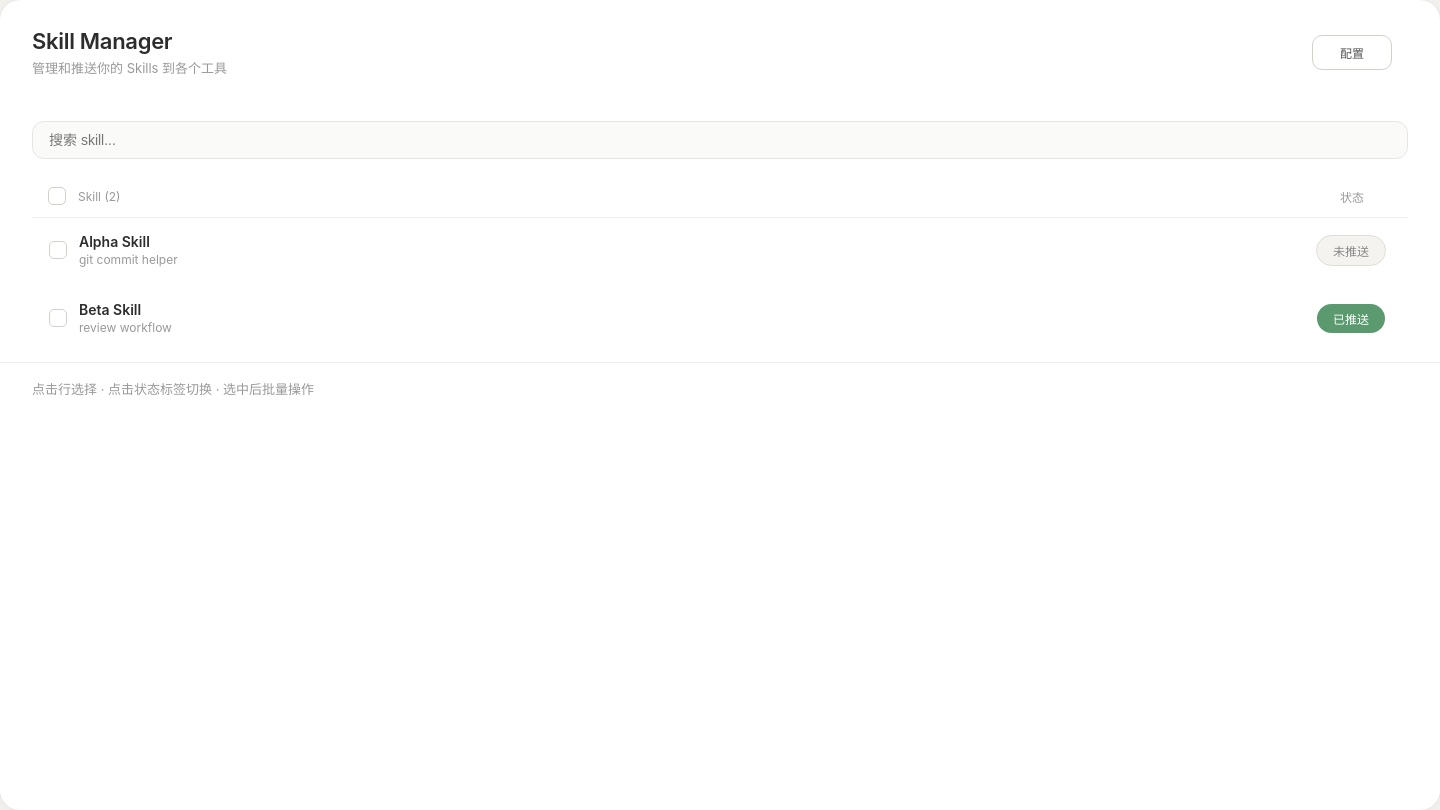
Scenario: ManagePage V0.4 Interaction (Integration) › IT-MANAGE-02: 全选应联动批量栏显示与选中数量
Click the element titled "全选/取消全选": (57,196) [48,187,66,205]
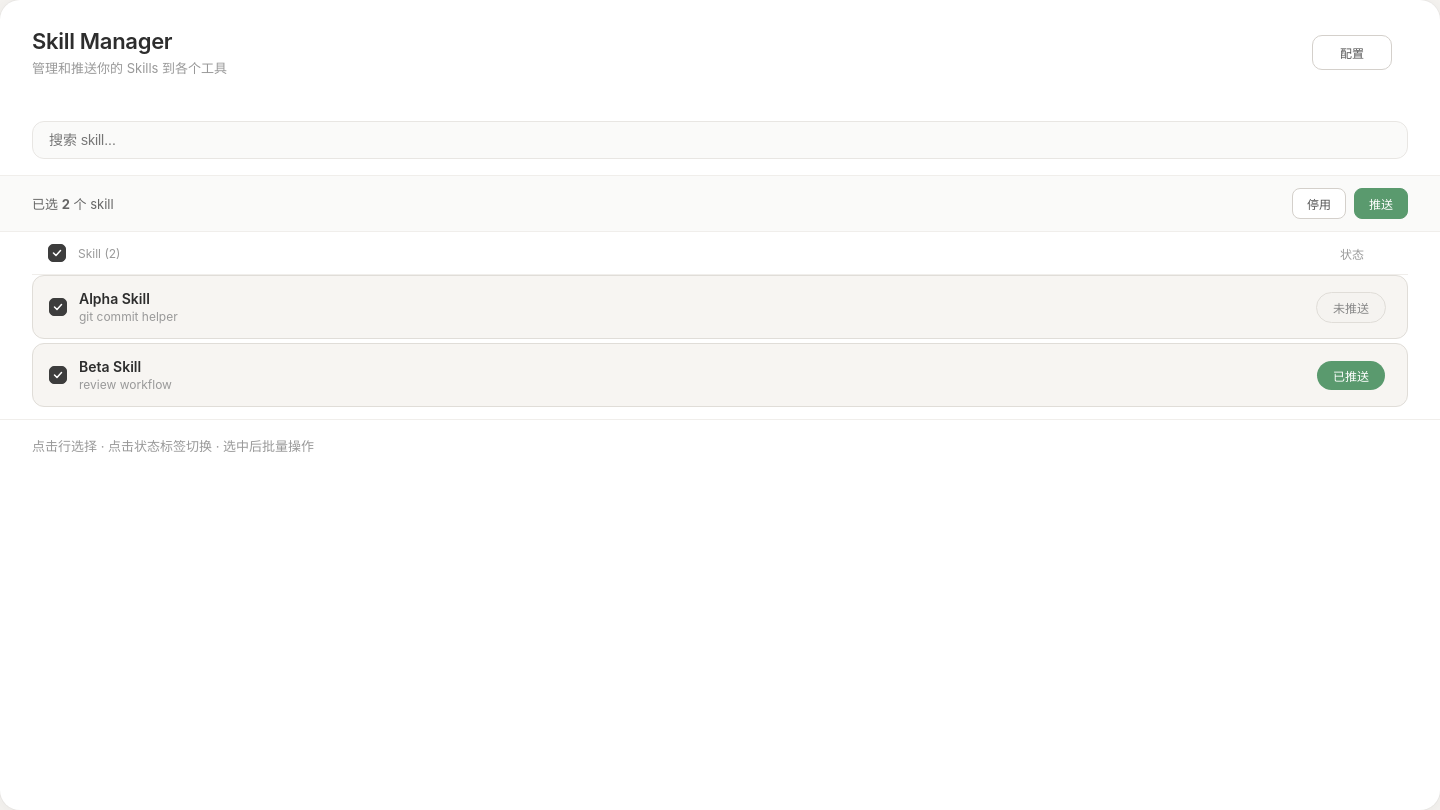
Expected: the text "已选 2 个 skill" is shown, [32,194,114,213]
Expected: the text "2" is shown, [62,196,70,212]
